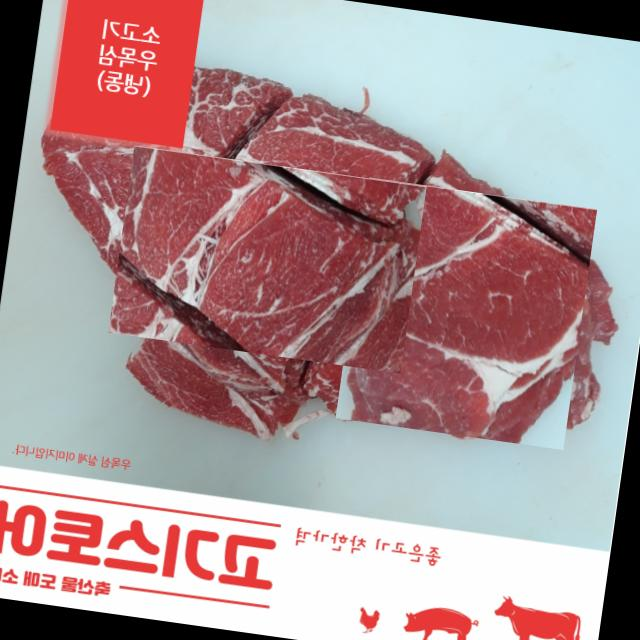beef: (130, 123, 404, 397), (332, 180, 599, 448)
